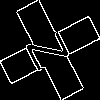Z: (25, 25, 79, 73)
